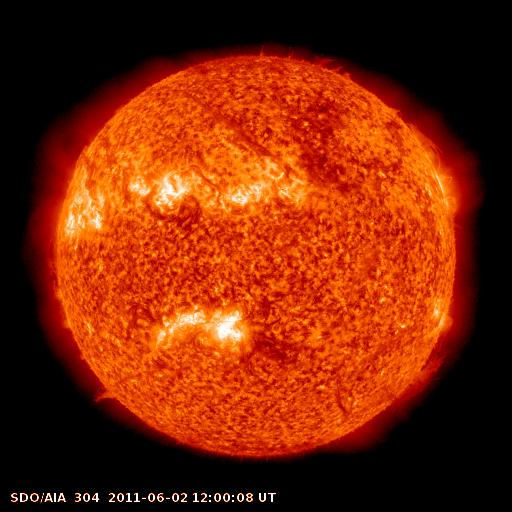prominence: (386, 343, 458, 409), (302, 44, 358, 86), (401, 118, 444, 167), (39, 233, 66, 308), (87, 373, 133, 417)
